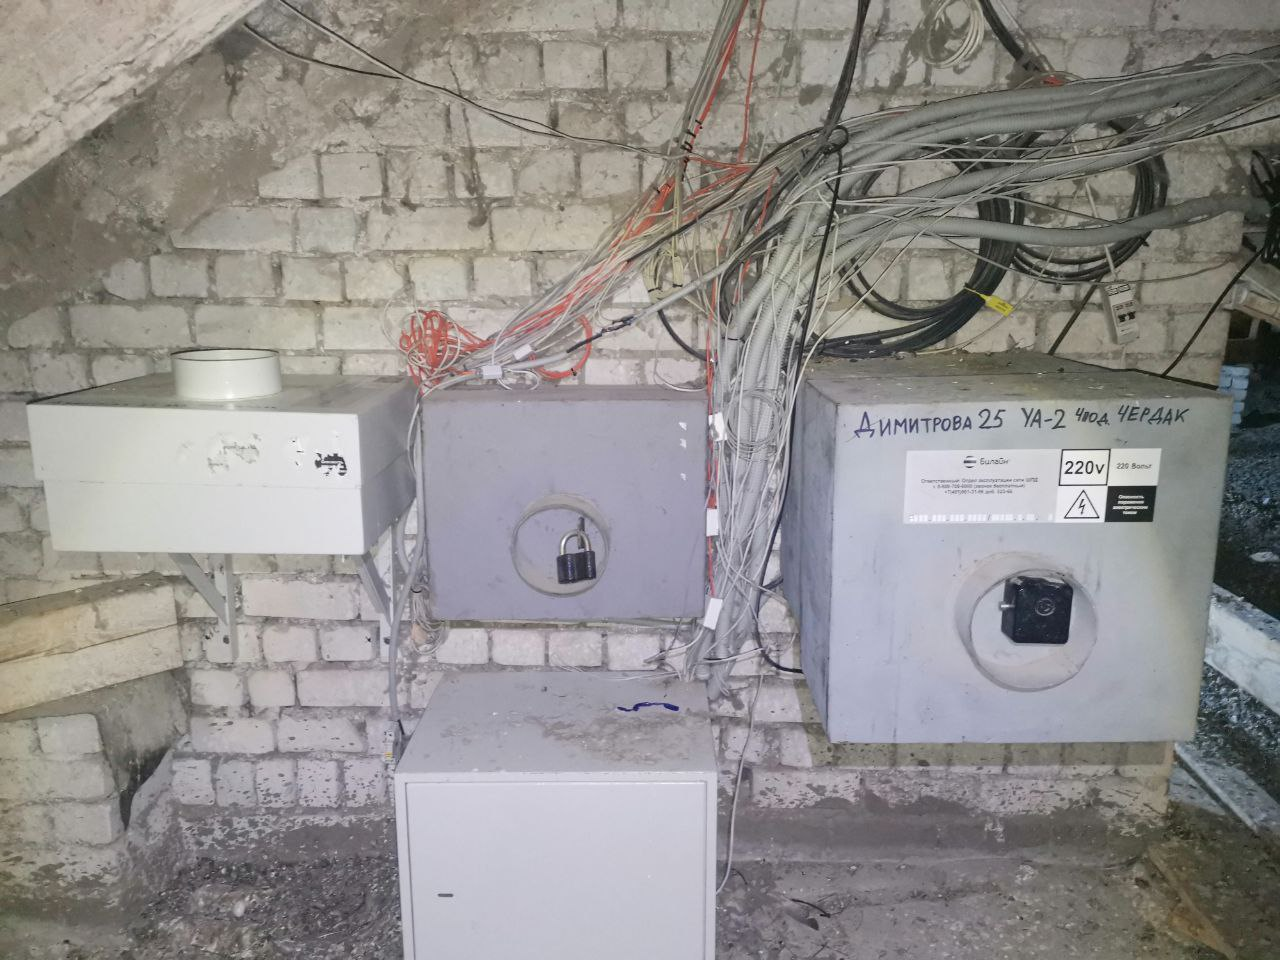shta-3: (420, 383, 710, 620)
shta-9: (773, 341, 1240, 746)
shta-ps: (17, 341, 421, 560)
